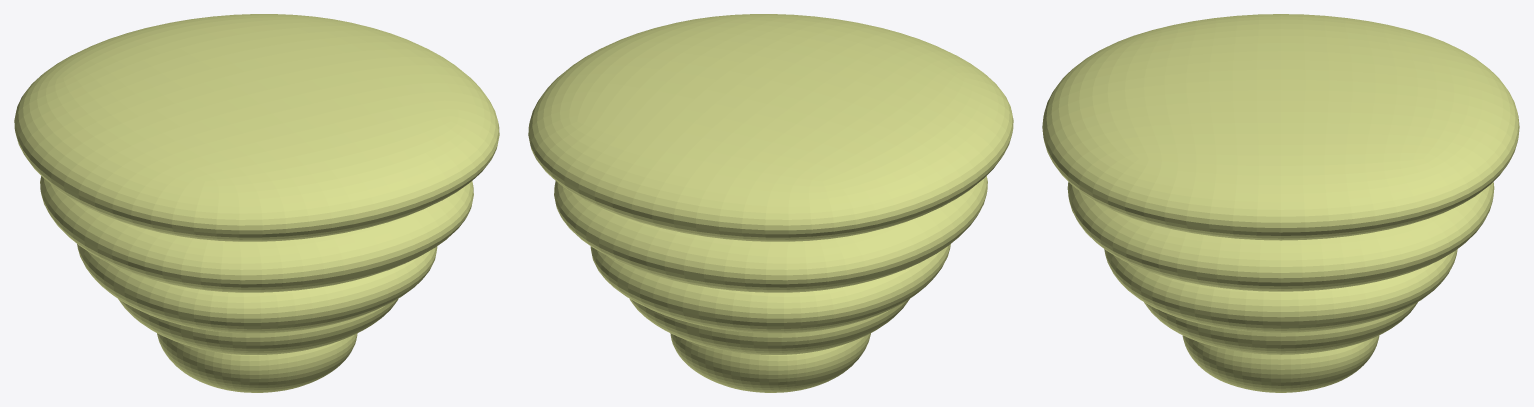
The model's file is beenest.fbx.
3 renders of one model, left to right at view 1: azimuth 30°, elevation 25°; view 2: azimuth 150°, elevation 25°; view 3: azimuth 270°, elevation 25°, orthographic.
Visible parts, largest first — view 1: Cube.004; view 2: Cube.004; view 3: Cube.004.
Boxes of the visible parts, x1,y1,x2,y2 form: Cube.004: (14, 14, 499, 392); Cube.004: (528, 14, 1013, 392); Cube.004: (1042, 14, 1519, 392).
Size of the model in its own units: 168 by 115 by 168.
